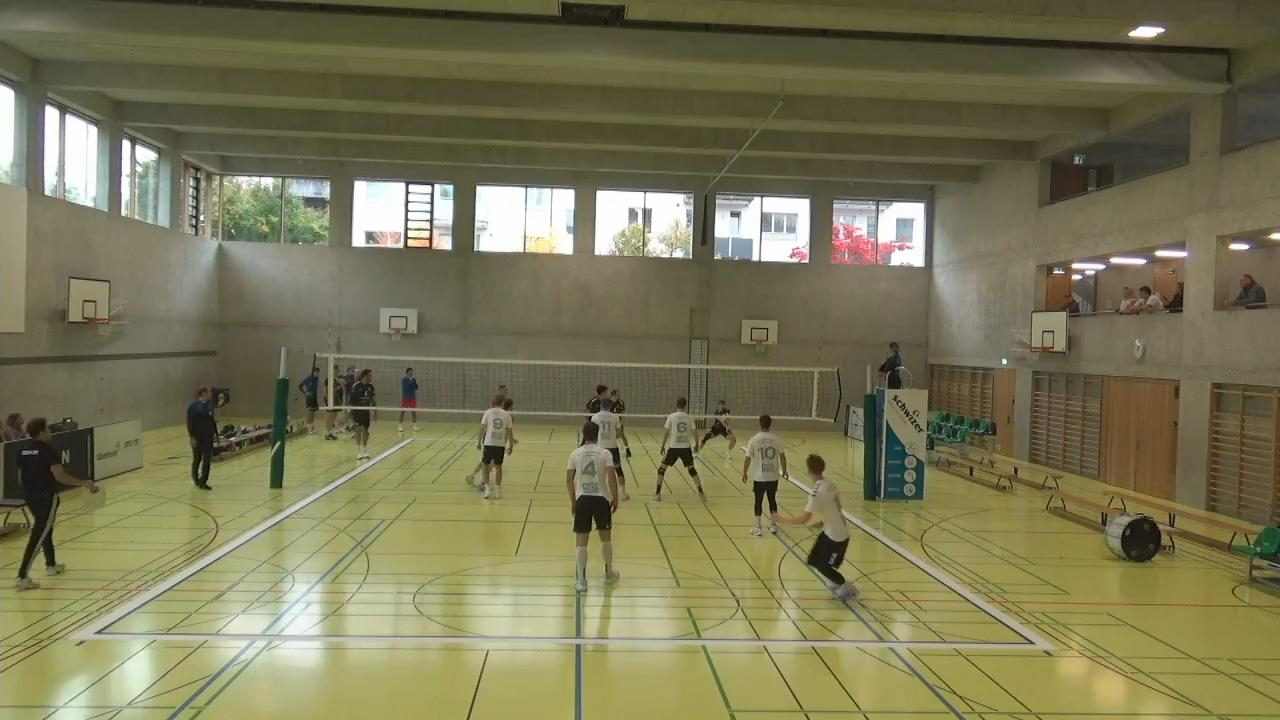Player: (566, 420, 619, 589), (743, 415, 790, 535), (651, 395, 704, 499), (474, 393, 516, 500), (591, 394, 631, 504), (343, 368, 376, 465), (607, 389, 633, 460), (494, 382, 515, 412)
Receive: (694, 397, 739, 465)
ball: (718, 411, 730, 428)
